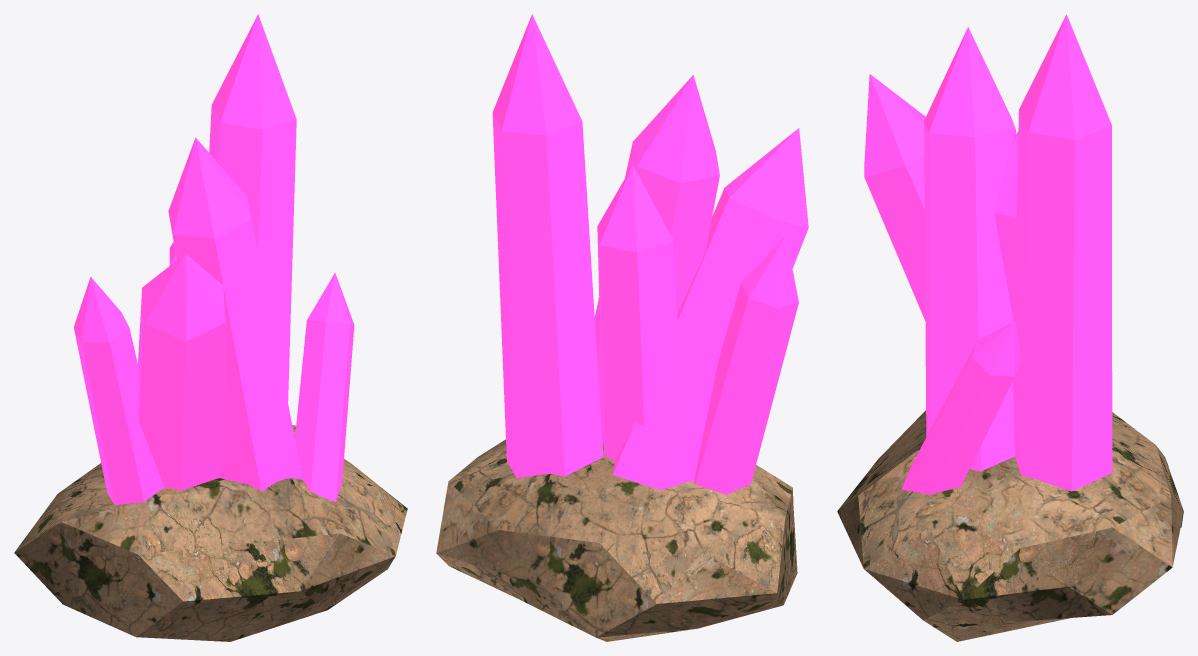
The model's file is Crystal_Pink_L.fbx.
3 views of the same model, side by side, from view 1: azimuth 30°, elevation 25°; view 2: azimuth 150°, elevation 25°; view 3: azimuth 270°, elevation 25° (orthographic). The views are drawn at different scales.
Visible parts, largest first — view 1: Crystal_Pink_L; view 2: Crystal_Pink_L; view 3: Crystal_Pink_L.
Boxes of the visible parts, left/top/right/bottom form: Crystal_Pink_L: left=14, top=14, right=407, bottom=641; Crystal_Pink_L: left=436, top=14, right=808, bottom=641; Crystal_Pink_L: left=837, top=14, right=1183, bottom=641.
Size of the model in its own units: 3.35 by 5.35 by 2.7.
